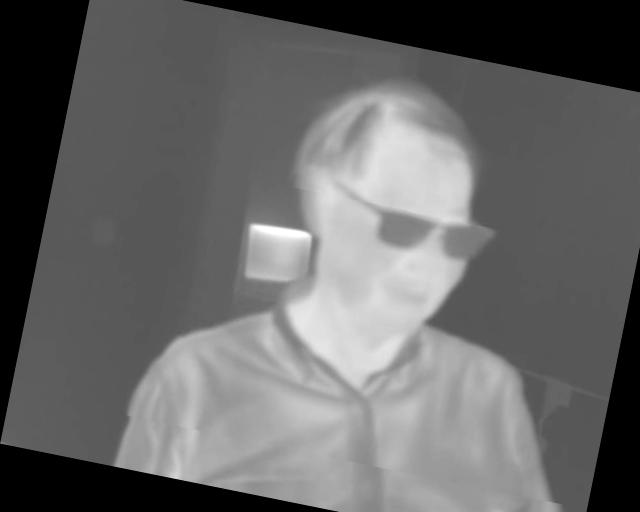face: (266, 57, 508, 335)
